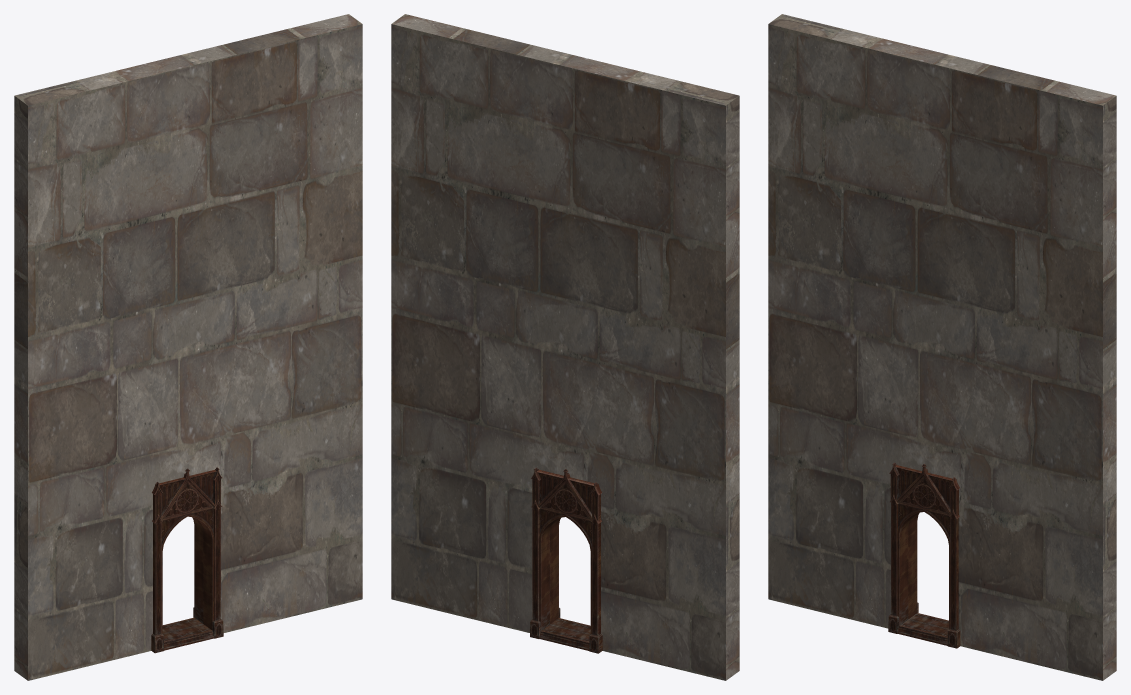
The model's file is SM_ArchWallDoor_01b.fbx.
The picture shows the model from 3 angles, left to right: view 1: azimuth 30°, elevation 25°; view 2: azimuth 150°, elevation 25°; view 3: azimuth 330°, elevation 25°; orthographic projection.
Parts seen in each view (by area): view 1: SM_ArchWallDoor_01b; view 2: SM_ArchWallDoor_01b; view 3: SM_ArchWallDoor_01b.
Part boxes in pixels (x1,y1,x2,y2): SM_ArchWallDoor_01b: (14,14,362,680); SM_ArchWallDoor_01b: (391,14,739,680); SM_ArchWallDoor_01b: (768,14,1116,680).
Bounding box in the file's own units: 700 × 1150 × 76.6.
2 materials, 2 textured.
